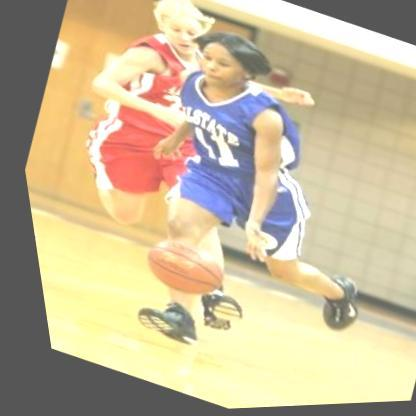basketball: (123, 225, 230, 311)
